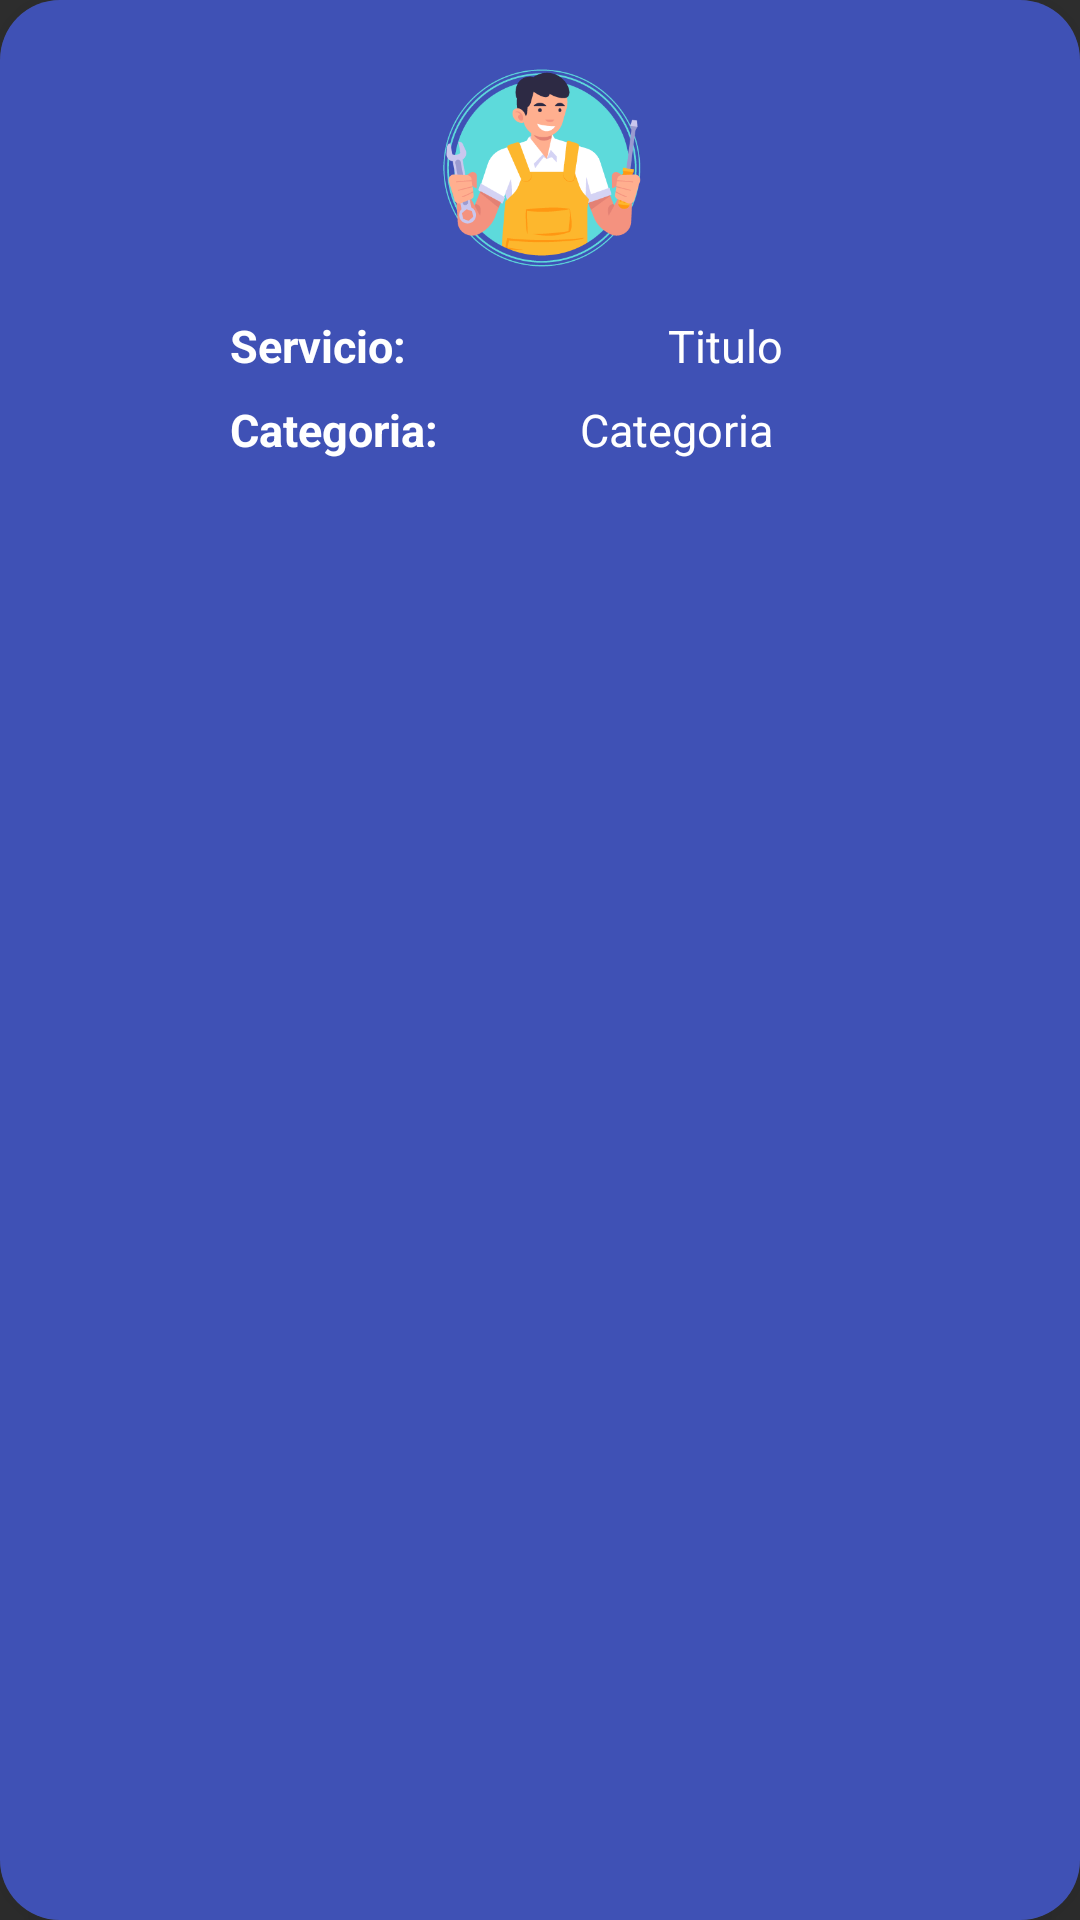

Icon bounding boxes for this 1080×1920 phone screenshot, format (x1, y1, x2, y2):
trabajador: (443, 69, 641, 267)
